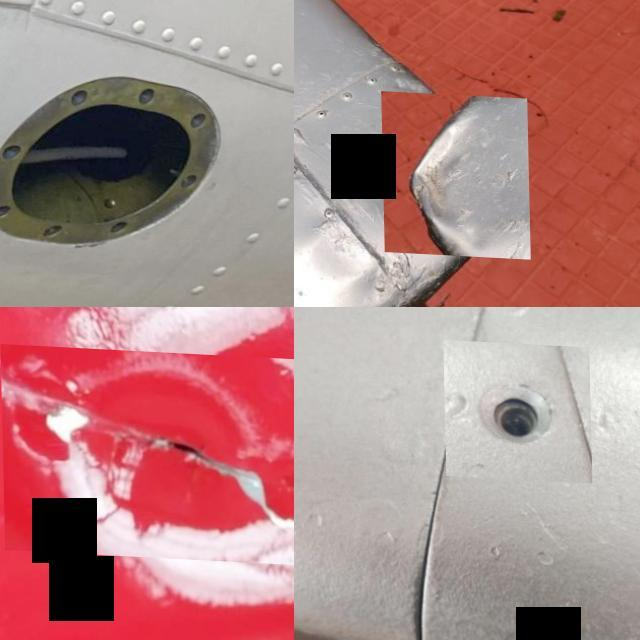Crack: (0, 342, 294, 569)
Dent: (380, 88, 529, 255)
Missing_Fastener: (443, 337, 591, 478)
